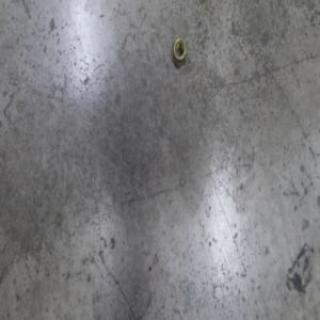Nuttrack_idkeyframe: (172, 35, 186, 69)
